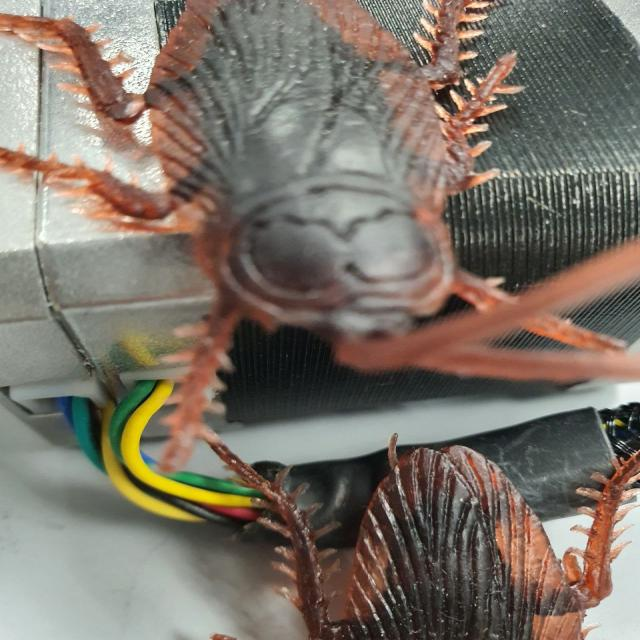Cockroach: (22, 0, 614, 466), (158, 428, 640, 640)
